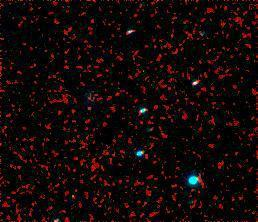star: (74, 94, 104, 124)
